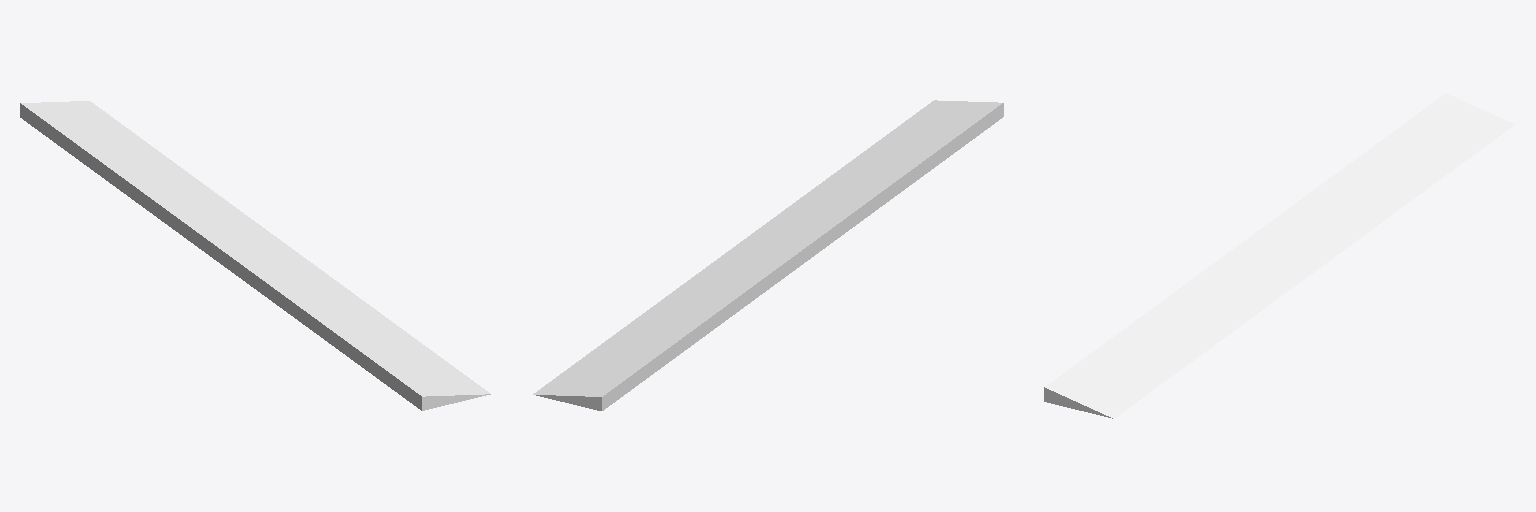
URDF robot description (walls):
<?xml version="1.0" encoding="utf-8"?>
<robot name="walls">
  <link name="base_link">
    <contact>
      <lateral_friction value="0.5"/>
      <rolling_friction value="0.0"/>
      <contact_cfm value="0.0"/>
      <contact_erp value="1.0"/>
    </contact>
    <inertial>
      <origin rpy="0 0 0" xyz="0 0 0"/>
      <mass value="0"/>
      <inertia ixx="0" ixy="0" ixz="0" iyy="0" iyz="0" izz="0"/>
    </inertial>
    <visual>
      <origin rpy="1.57 0 -1.57" xyz="0 5 0"/>
      <geometry>
        <mesh filename="models/meshes[local-path]" scale="10 5 10"/>
      </geometry>
      <material name="tray_material">
        <color rgba="1 1 1 1"/>
      </material>
    </visual>
    <collision concave="yes">
      <origin rpy="1.57 0 -1.57" xyz="0 5 0"/>
      <geometry>
        <mesh filename="models/meshes[local-path]" scale="10 5 10"/>
      </geometry>
    </collision>
  </link>
</robot>

--- Render facts (derived) ---
The picture shows the robot from 3 angles, left to right: view 1: azimuth 30°, elevation 25°; view 2: azimuth 150°, elevation 25°; view 3: azimuth 330°, elevation 25°; orthographic projection.
Robot: walls — 1 links, 0 joints (none); root link base_link; default pose: every joint at zero.
Links seen in each view (by area): view 1: base_link; view 2: base_link; view 3: base_link.
Boxes of the visible links, x1,y1,x2,y2 form: base_link: (20,101,490,410); base_link: (533,100,1003,410); base_link: (1044,93,1514,418).
Bounding box of the posed robot: 1.01 × 10 × 0.2008 m (x, y, z).
1 mesh visuals loaded from 1 distinct referenced files (1 OBJ).
